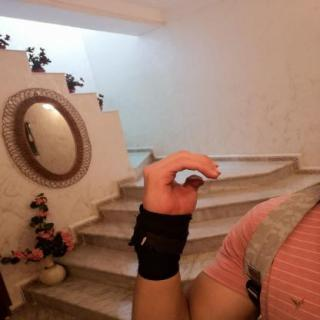JEEM: (133, 142, 230, 226)
